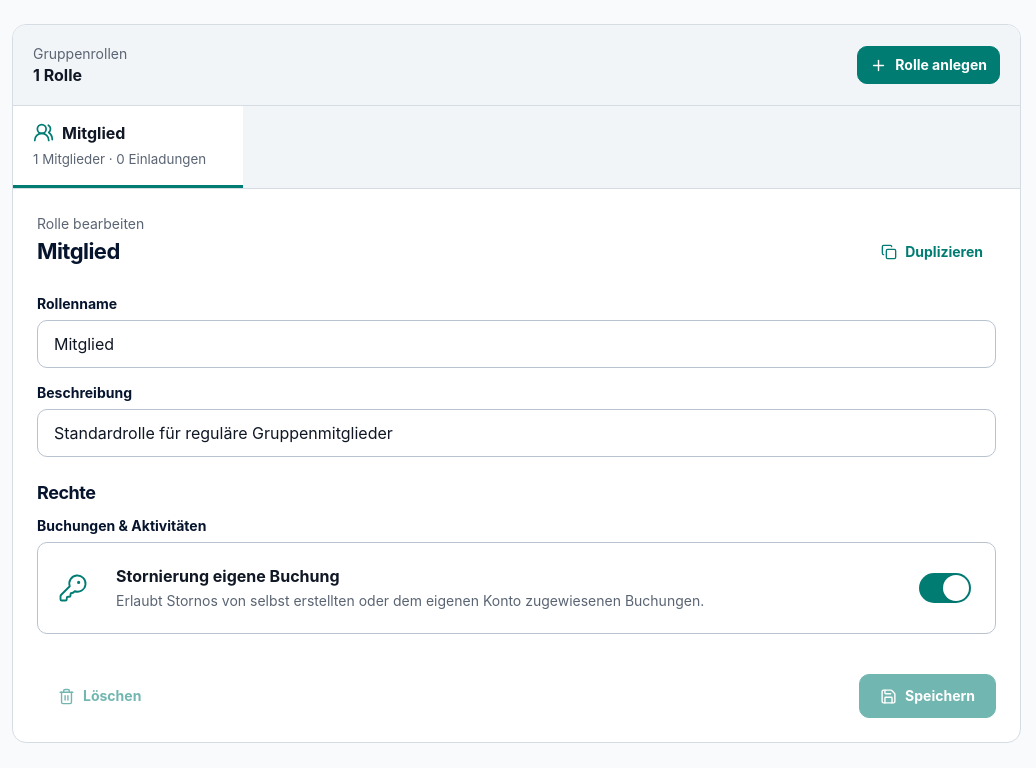
Test: RightsPanel role definitions › starts a copied role from the duplicate action in the editor title row
The image size is (1036, 768).
What coordinates should you click on to do the following:
click the button "Duplizieren"
I would click on:
 (932, 252)
Its box is [868, 233, 996, 271].
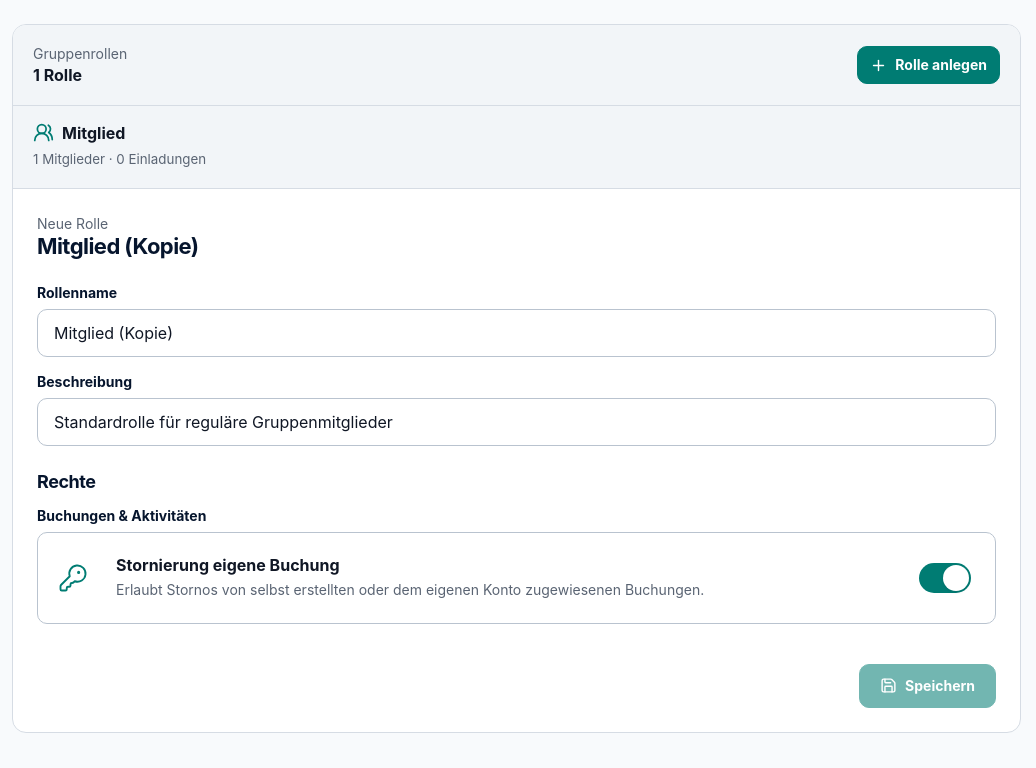
Now the heading "Mitglied (Kopie)" is shown, box [37, 233, 199, 260]
Now the button "Duplizieren" is gone
